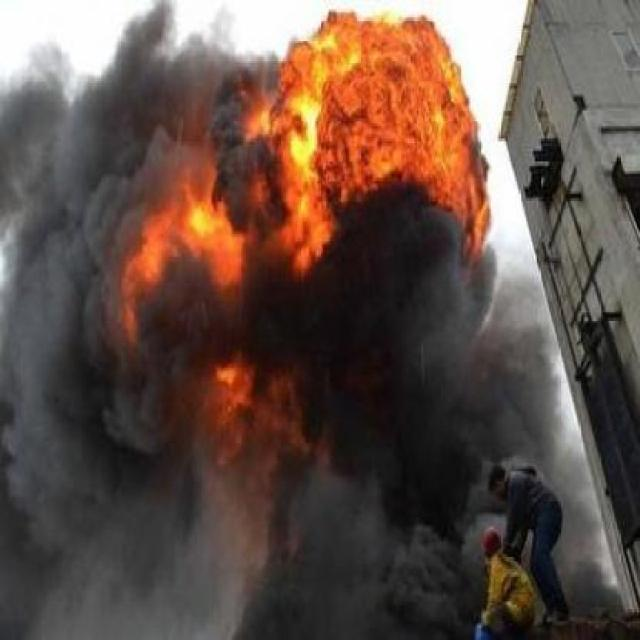Fire: (142, 9, 486, 305)
Smoke: (11, 300, 434, 622)
